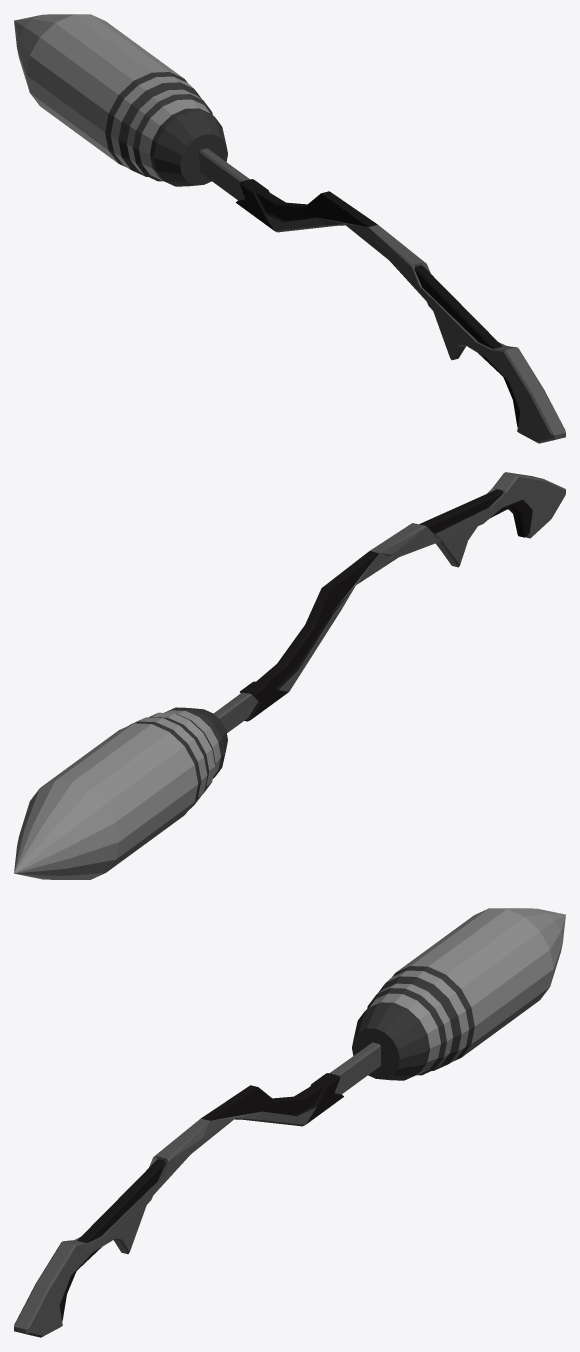
File: silver_arrow.obj
3 renders of one model, top to bottom at view 1: azimuth 30°, elevation 25°; view 2: azimuth 150°, elevation 25°; view 3: azimuth 330°, elevation 25°, orthographic.
Parts seen in each view (by area): view 1: Body; view 2: Body; view 3: Body.
Part boxes in pixels (x1,y1,x2,y2): Body: (14,14,565,443); Body: (14,472,565,879); Body: (14,908,565,1337).
Bounding box in the file's own units: 0.4904 × 0.5382 × 4.98.
